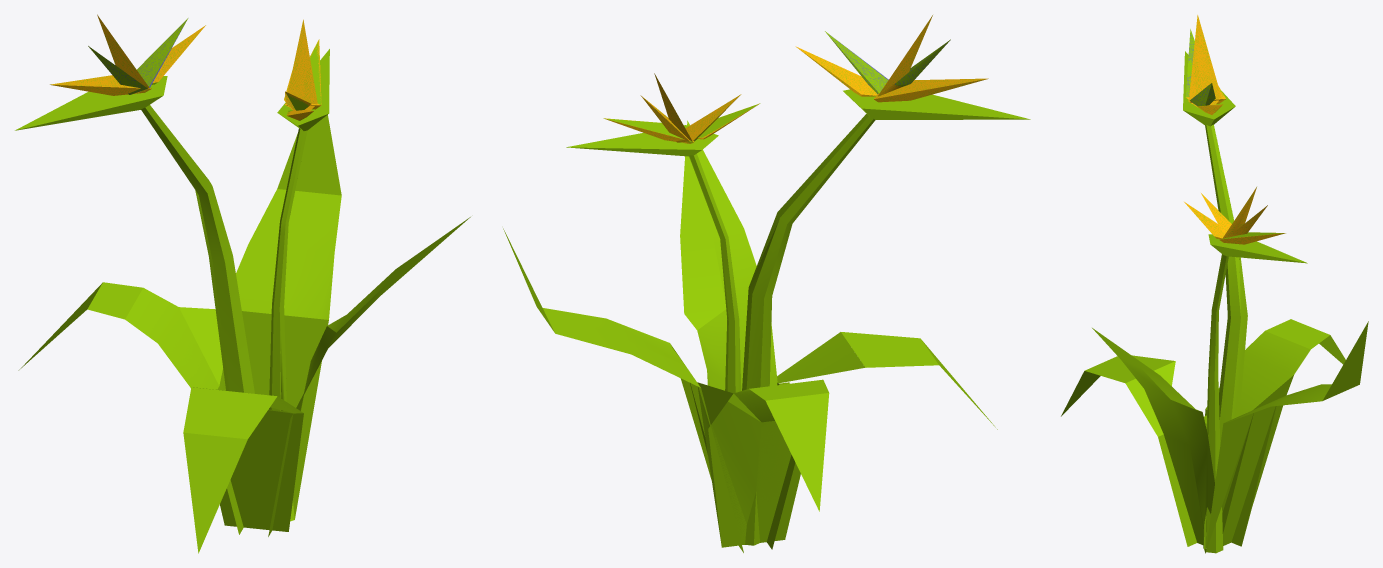
File: flower.fbx
3 views of the same model, side by side, from view 1: azimuth 30°, elevation 25°; view 2: azimuth 150°, elevation 25°; view 3: azimuth 270°, elevation 25° (orthographic). The views are drawn at different scales.
Parts seen in each view (by area): view 1: Plant_Bird_of_Paradise_01.001; view 2: Plant_Bird_of_Paradise_01.001; view 3: Plant_Bird_of_Paradise_01.001.
Part boxes in pixels (<box>): Plant_Bird_of_Paradise_01.001: <box>15,14,470,553</box>; Plant_Bird_of_Paradise_01.001: <box>503,15,1030,552</box>; Plant_Bird_of_Paradise_01.001: <box>1061,15,1368,553</box>.
Size of the model in its own units: 85.09 by 109 by 66.21.
